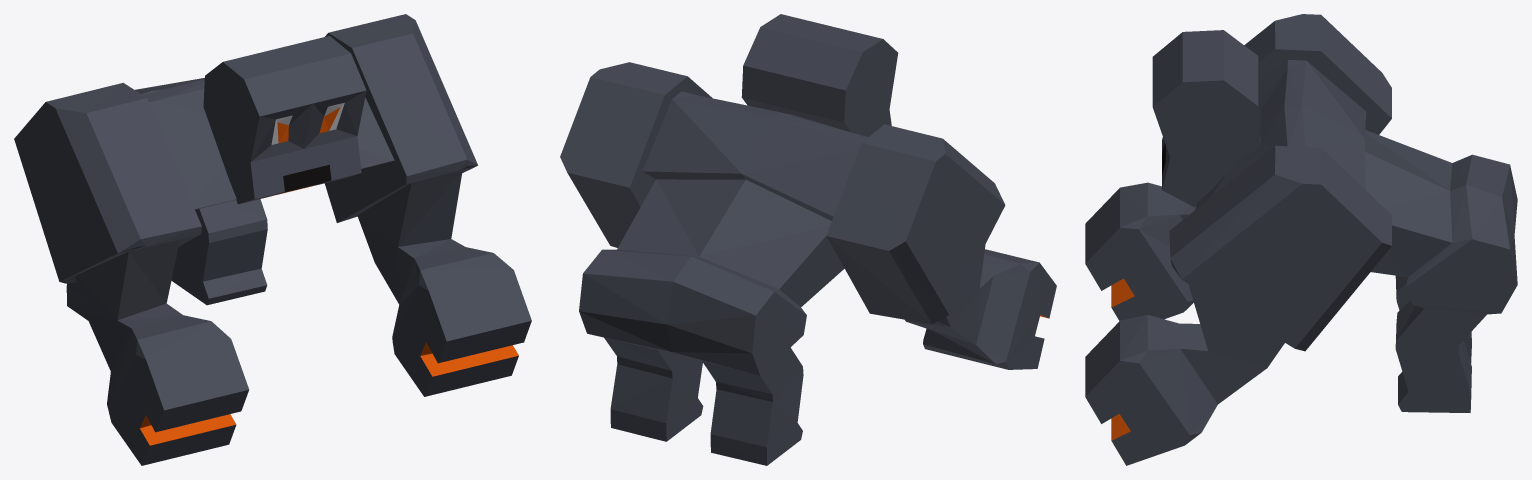
Rendered from kong_000020.obj.
3 renders of one model, left to right at view 1: azimuth 30°, elevation 25°; view 2: azimuth 150°, elevation 25°; view 3: azimuth 270°, elevation 25°, orthographic. The views are drawn at different scales.
Visible parts, largest first — view 1: Cube; view 2: Cube; view 3: Cube.
Part boxes in pixels (bbox=[...]): Cube: bbox=[14, 14, 531, 465]; Cube: bbox=[560, 14, 1056, 465]; Cube: bbox=[1085, 14, 1517, 465].
Bounding box in the file's own units: 5.84 × 5.06 × 6.12.
1 material, 1 textured.
